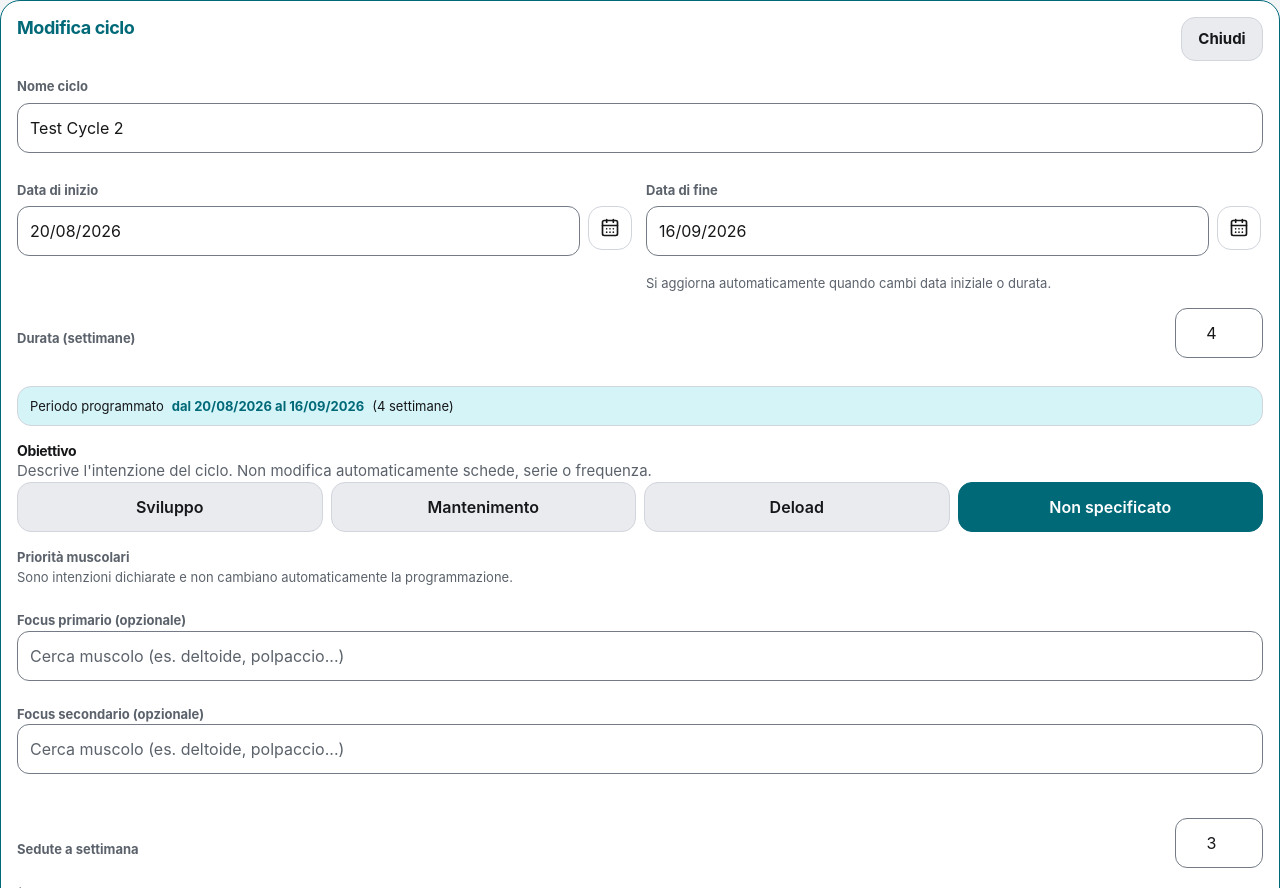
it: Challenger 2 Empirical Verification: CycleEditor UI & Two-Way Binding › Scenario 2: End Date text change immediately updates Duration Weeks (two-way binding)
Replace the text in the field with id "cycle-end-date" with "02/09/2026" at (928, 231), box [646, 206, 1209, 256]
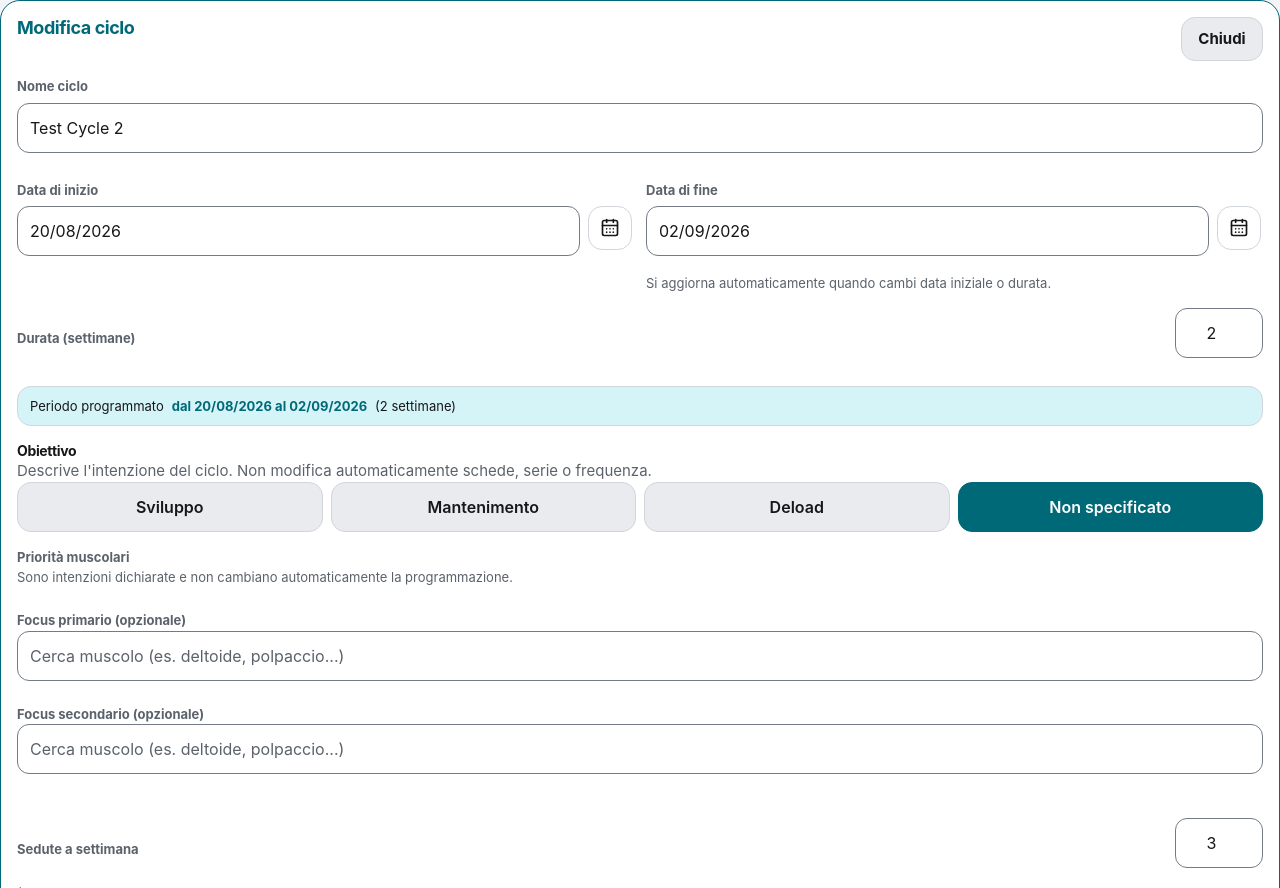
Now the number field with id "cycle-duration-weeks" holds "2", box [1175, 308, 1263, 358]
